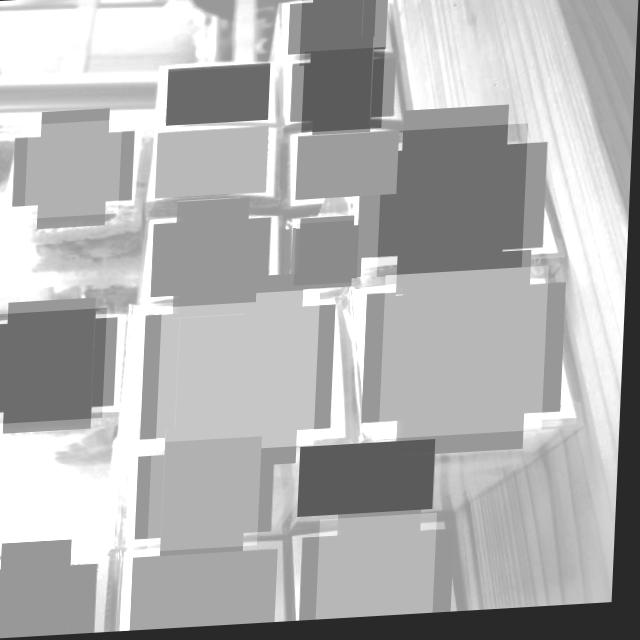qr_code: (383, 272, 552, 443), (160, 292, 323, 456), (380, 129, 530, 281), (152, 439, 266, 553), (322, 518, 442, 624), (0, 308, 110, 423), (136, 552, 283, 633), (302, 444, 440, 520), (165, 209, 262, 309), (26, 120, 124, 218), (157, 129, 270, 199), (0, 552, 90, 639), (297, 134, 401, 203), (303, 51, 386, 136), (167, 66, 271, 126), (300, 0, 377, 69), (296, 223, 362, 288)
